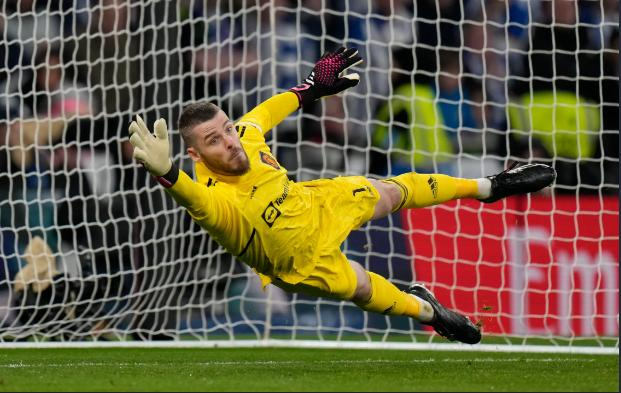goalkeeper: (123, 31, 614, 361)
